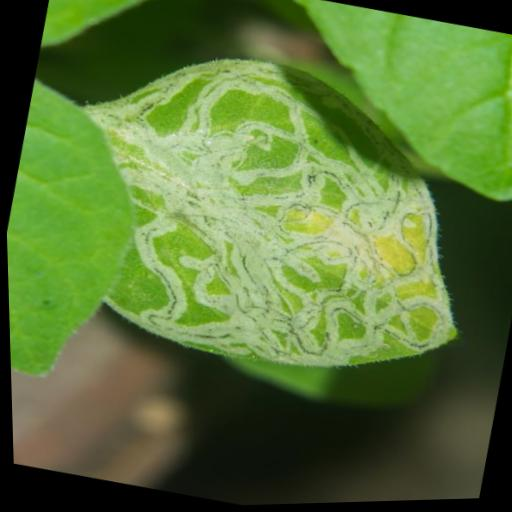Leaf_Miner: (26, 16, 511, 414)
